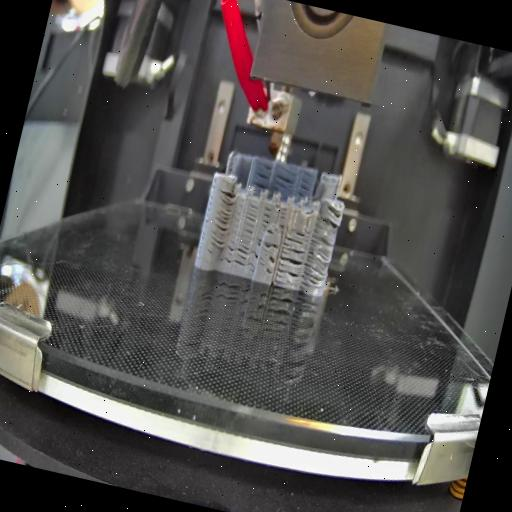cracks: (300, 234, 335, 291), (208, 190, 236, 250), (274, 245, 306, 286), (318, 203, 344, 231), (270, 170, 296, 196), (242, 202, 260, 238), (246, 236, 264, 270), (250, 162, 272, 189), (234, 240, 251, 268), (222, 234, 236, 268), (294, 178, 312, 201), (282, 229, 306, 246), (264, 254, 276, 278), (259, 206, 272, 228), (276, 208, 289, 230), (262, 240, 280, 251), (265, 228, 274, 234)
